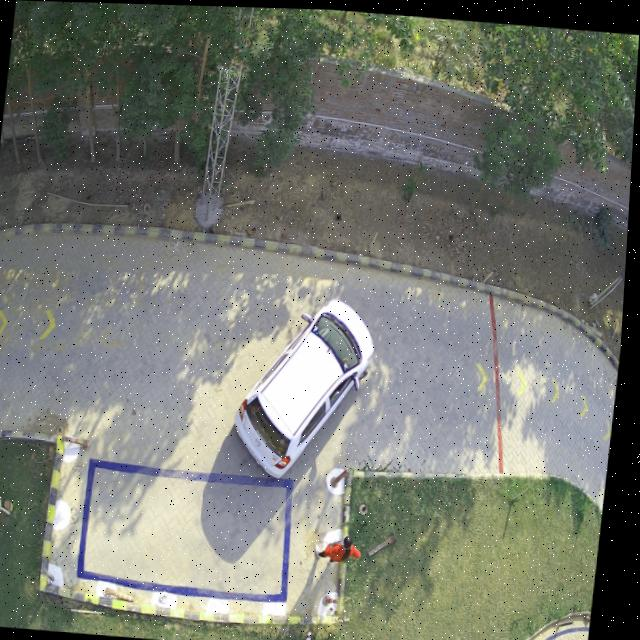car: (239, 298, 379, 476)
